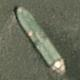ship: (0, 0, 28, 37)
